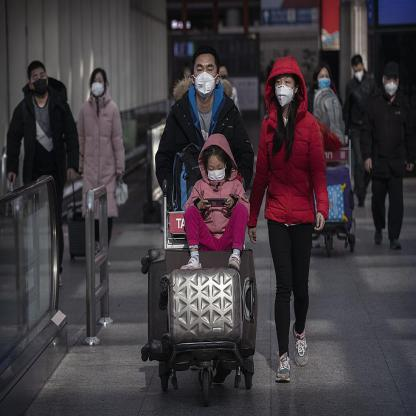Wearing_Mask: (193, 61, 215, 97), (273, 74, 294, 107), (30, 70, 47, 96), (205, 160, 225, 182), (90, 75, 104, 97), (383, 76, 397, 95), (316, 72, 330, 90), (352, 66, 364, 82)
